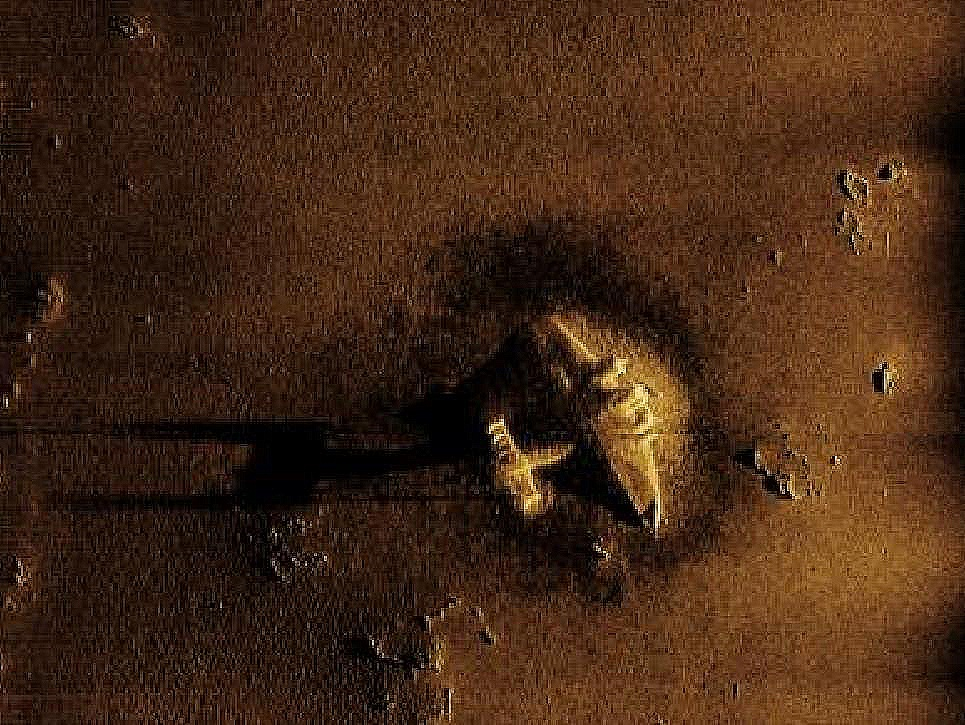aircraft: (484, 310, 689, 538)
